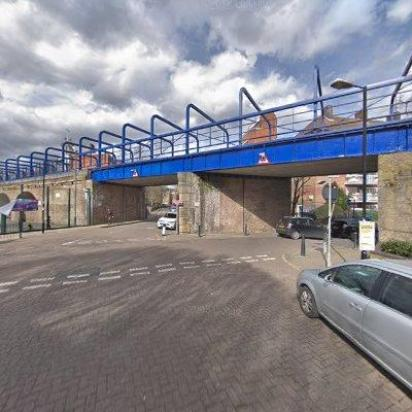moving-car: (158, 212, 178, 230)
stationary-car-onstreet: (296, 256, 412, 392), (275, 214, 333, 240), (325, 217, 360, 239)
